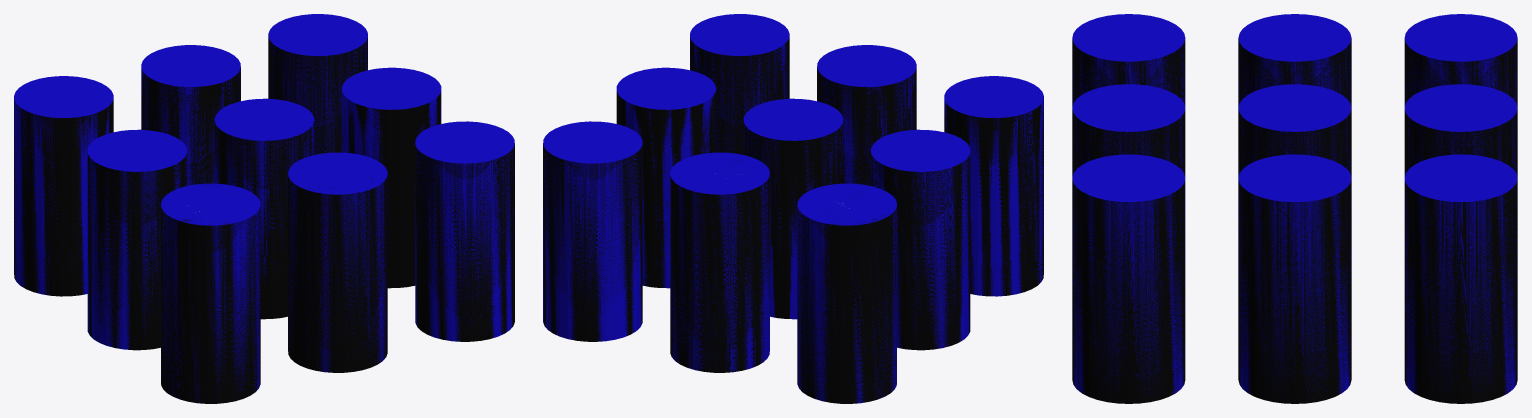
The model's file is KeyPad1.fbx.
3 views of the same model, side by side, from view 1: azimuth 30°, elevation 25°; view 2: azimuth 150°, elevation 25°; view 3: azimuth 270°, elevation 25° (orthographic). The views are drawn at different scales.
Parts seen in each view (by area): view 1: Button.001; view 2: Button.001; view 3: Button.001.
Part boxes in pixels (x1,y1,x2,y2): Button.001: [14, 14, 514, 403]; Button.001: [543, 14, 1043, 403]; Button.001: [1072, 14, 1517, 403].
Size of the model in its own units: 40.18 by 20.09 by 40.18.
Materials: 11 (1 with a texture image).
